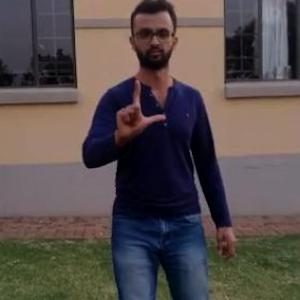land_hand: (106, 72, 172, 149)
